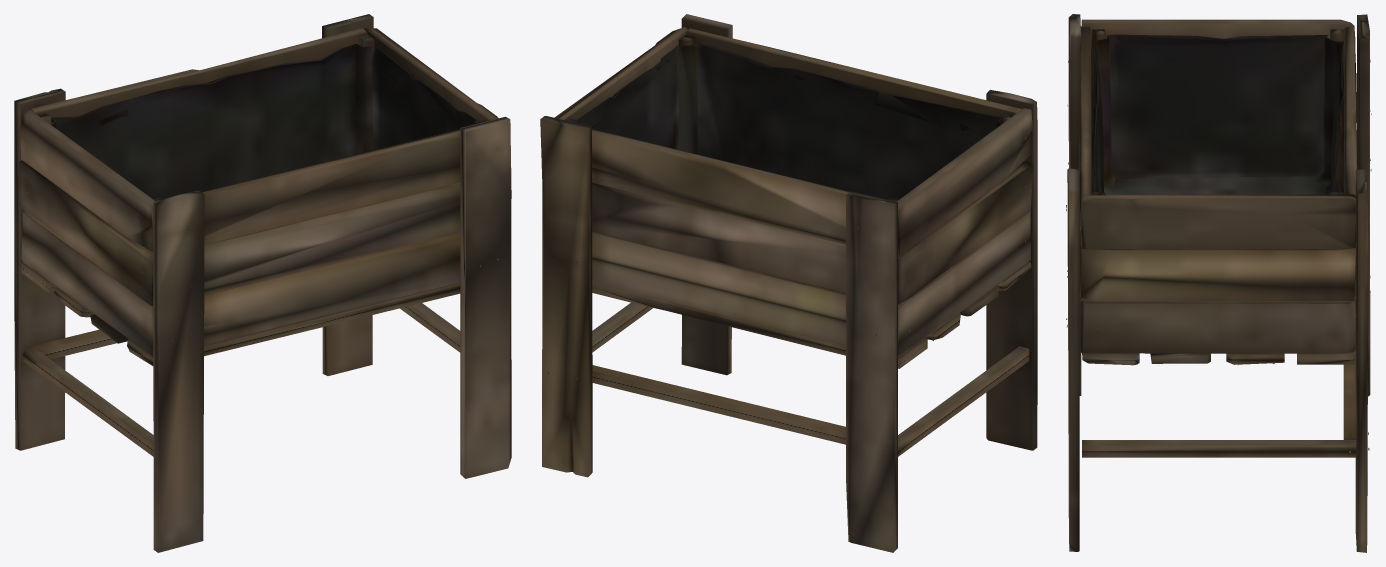
File: jardiniere_haute_bois_lod1.glb
The picture shows the model from 3 angles, left to right: view 1: azimuth 30°, elevation 25°; view 2: azimuth 150°, elevation 25°; view 3: azimuth 270°, elevation 25°; orthographic projection. The views are drawn at different scales.
Parts seen in each view (by area): view 1: planter_box_03; view 2: planter_box_03; view 3: planter_box_03.
Boxes of the visible parts, x1,y1,x2,y2 form: planter_box_03: [14, 14, 511, 552]; planter_box_03: [540, 14, 1037, 552]; planter_box_03: [1066, 14, 1371, 552].
Size of the model in its own units: 0.9139 by 0.8545 by 0.6548.
Materials: 1 (1 with a texture image).
